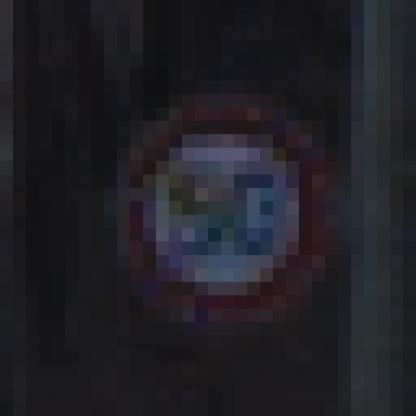Speed Limit 50: (131, 114, 318, 305)
